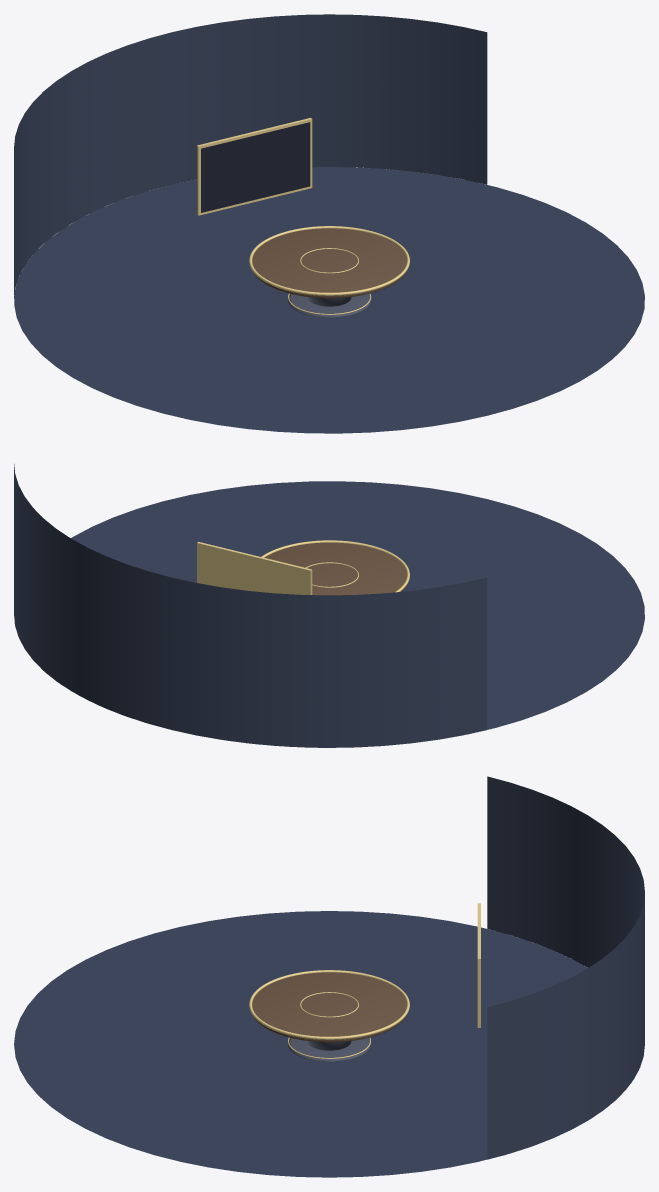
Rendered from table.glb.
3 views of the same model, one above another, from view 1: azimuth 30°, elevation 25°; view 2: azimuth 150°, elevation 25°; view 3: azimuth 270°, elevation 25° (orthographic).
Visible parts, largest first — view 1: Floor, Wall_Back, Table_Top, Whiteboard_Face, Whiteboard_Frame, Table_Rim, Table_Foot; view 2: Wall_Back, Floor, Table_Top, Whiteboard_Frame, Table_Rim; view 3: Floor, Wall_Back, Table_Top, Table_Rim, Table_Foot.
Boxes of the visible parts, x1,y1,x2,y2 form: Floor: (14,167,644,433); Wall_Back: (14,14,487,298); Table_Top: (252,228,406,298); Whiteboard_Face: (201,122,310,212); Whiteboard_Frame: (197,117,312,215); Table_Rim: (249,226,409,295); Table_Foot: (288,294,371,317); Wall_Back: (14,464,487,747); Floor: (14,481,644,747); Table_Top: (264,542,406,595); Whiteboard_Frame: (197,542,312,594); Table_Rim: (261,540,409,592); Floor: (14,911,638,1177); Wall_Back: (487,776,644,1159); Table_Top: (252,972,406,1042); Table_Rim: (249,970,409,1039); Table_Foot: (288,1038,370,1061).
Bounding box in the file's own units: 12 × 3.2 × 12.
